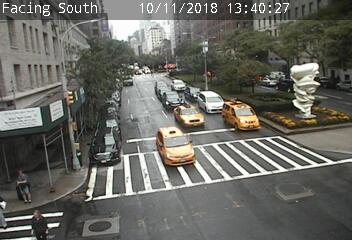car: (156, 127, 196, 166), (222, 101, 260, 132), (90, 127, 120, 164), (174, 105, 203, 127), (199, 91, 226, 113), (163, 91, 186, 111), (185, 86, 205, 102), (276, 79, 299, 92), (158, 87, 173, 101), (258, 77, 278, 87), (155, 81, 169, 95), (171, 79, 187, 91)
